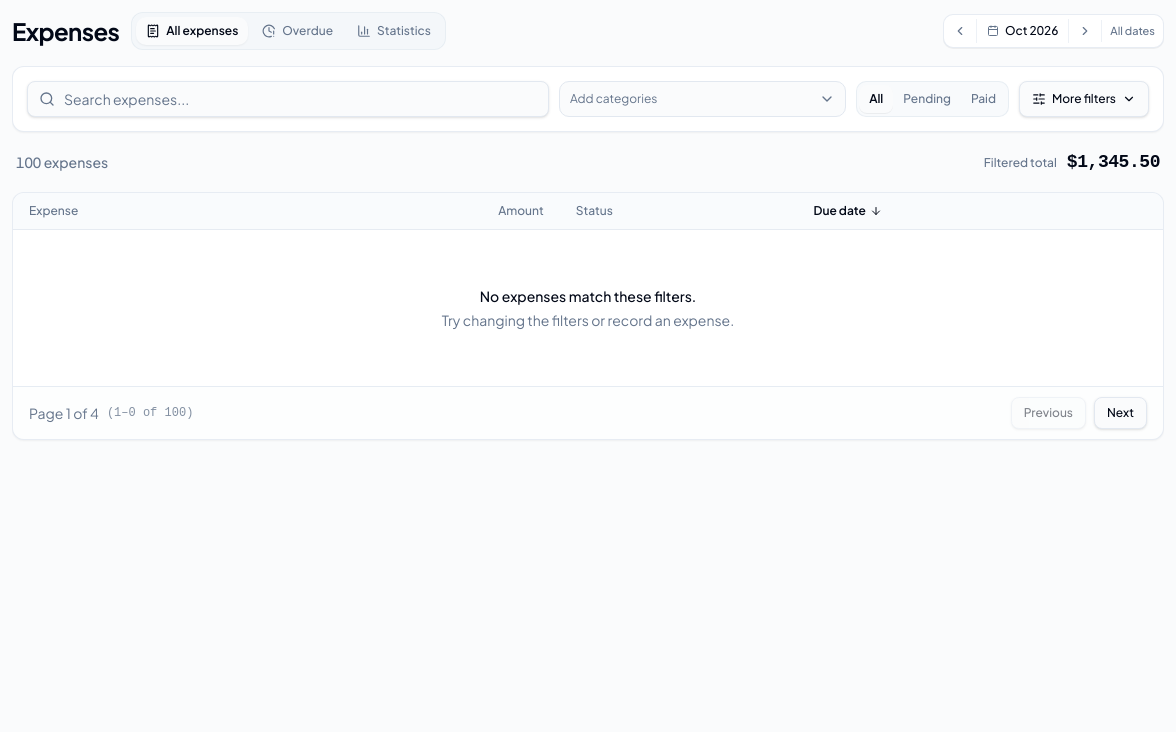
Test: expense filter requests › returns to the first page when changing payment status
Expected: the text "100 expenses" is shown, [16,152,108,172]
Click the button "Next" at (1120, 413), box [1094,397,1147,429]
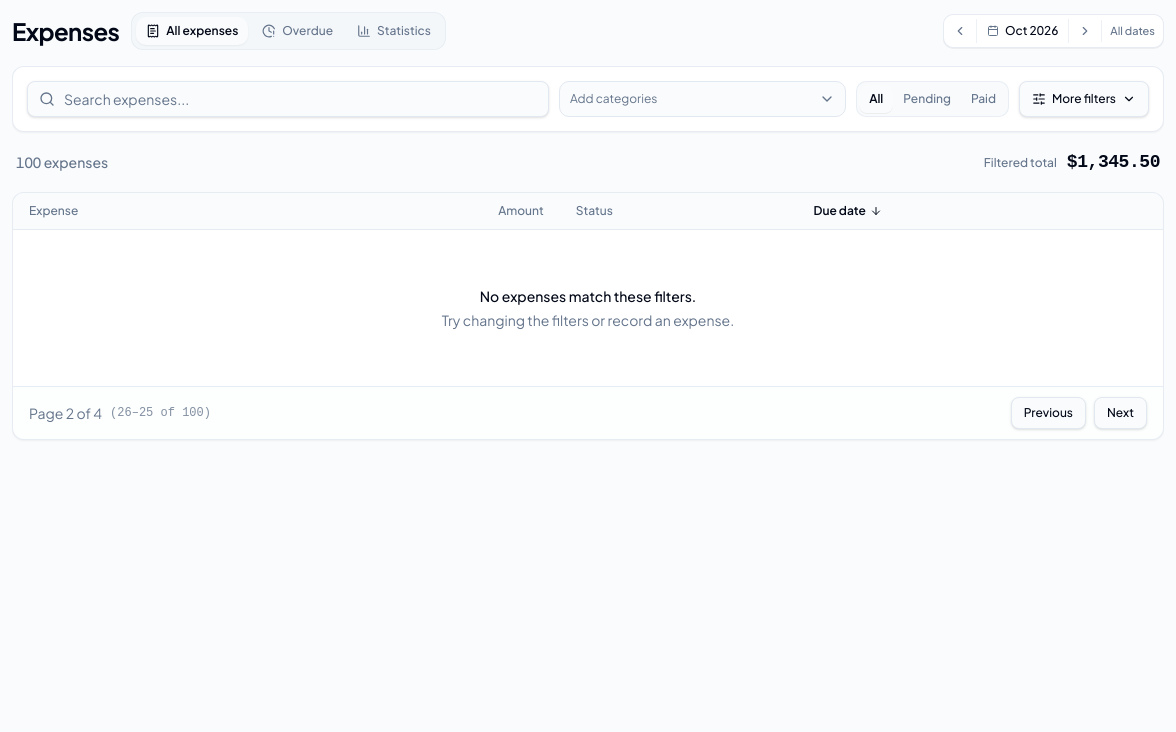
Result: the text "Page 2 of 4" is shown at [29,403,102,423]
Click the button "More filters" at (1084, 99), box [1019,81,1149,117]
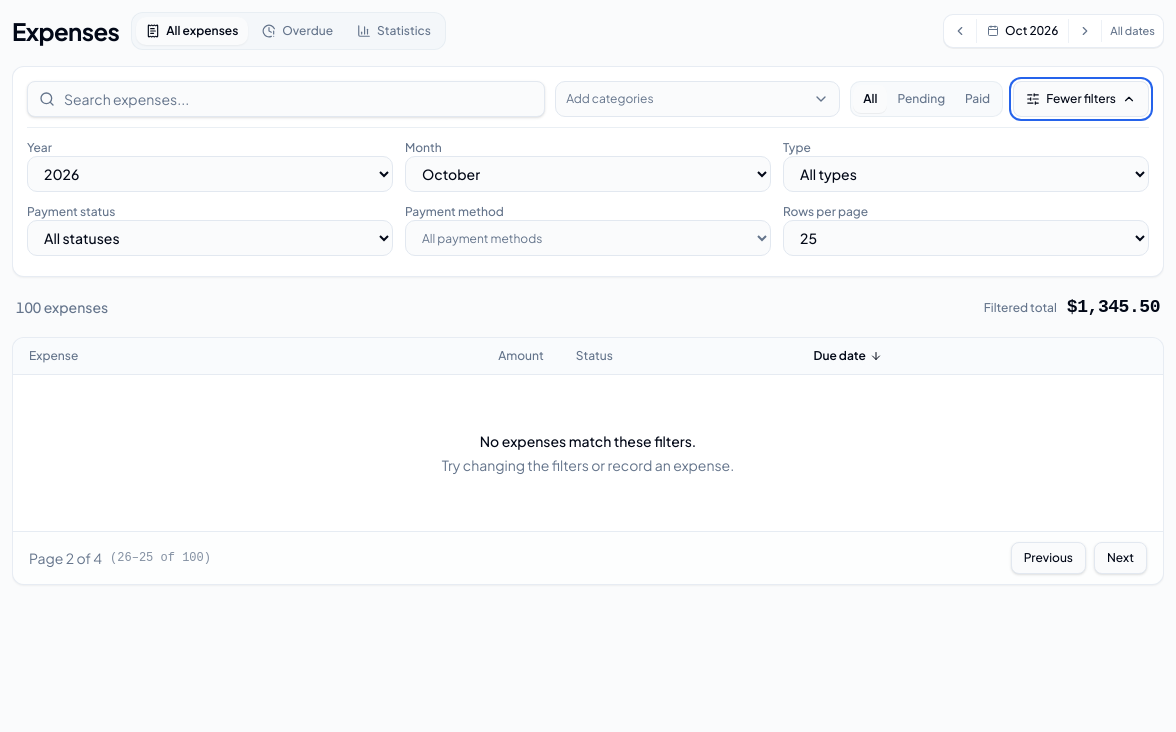
Select "Pending" in the dropdown labelled "Payment status" at (210, 238), box [27,220,393,256]
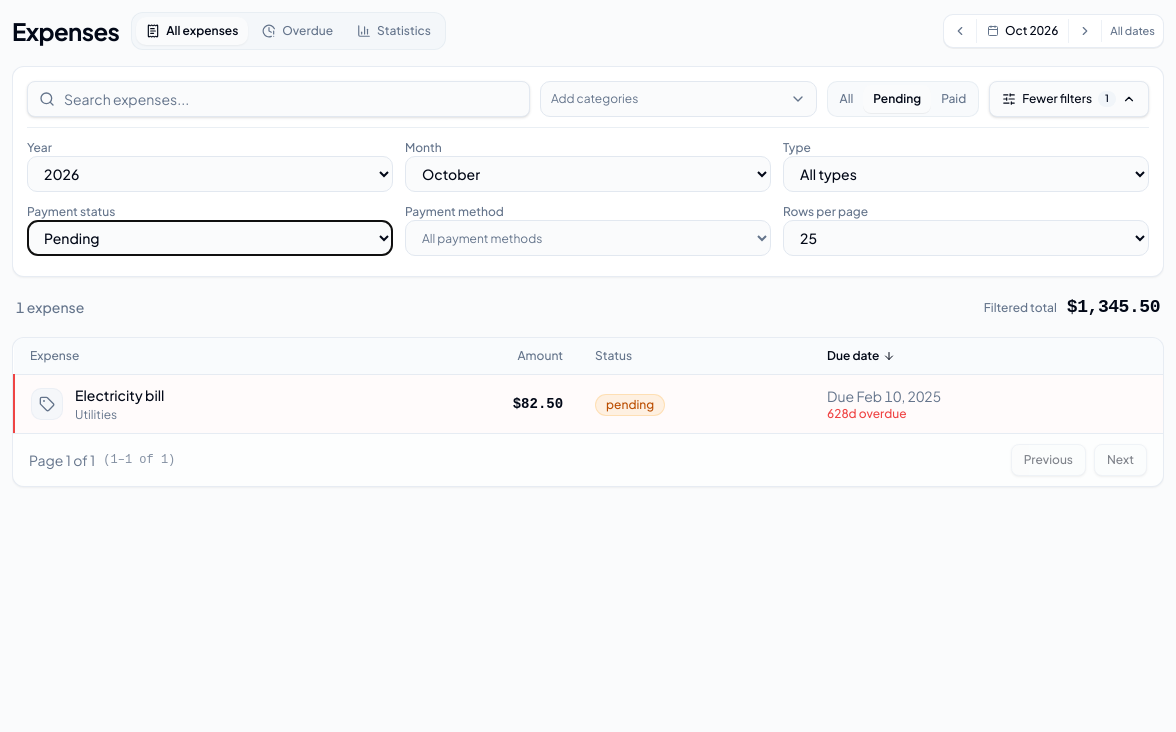
Result: the text "1 expense" is shown at [16,297,84,317]
Result: the text "Page 1 of 1" is shown at [29,450,95,470]
